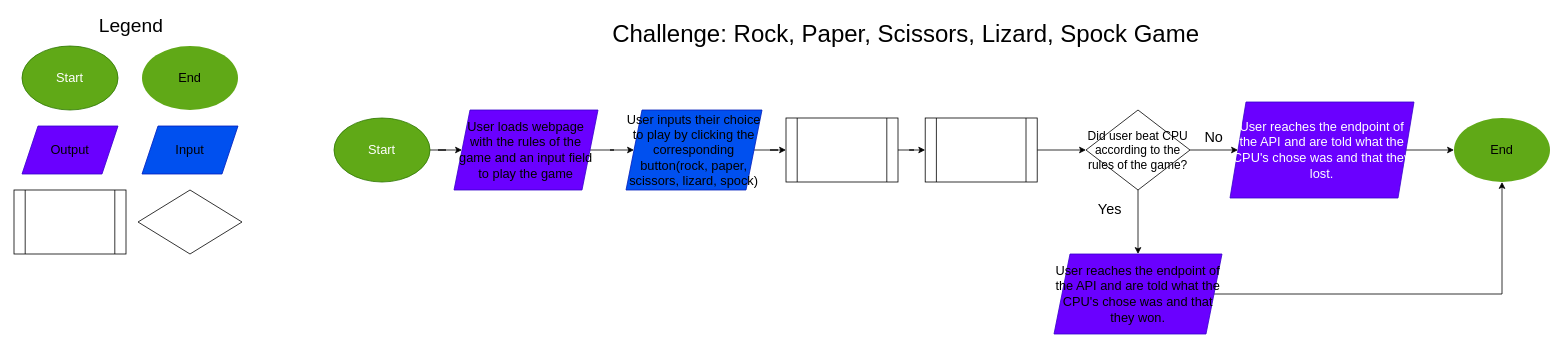
Some shapes in this 1564 by 348 pixel diagram are drawn without their labels. Each missing label, with the box of its shape:
Computer takes users' input and compares it to choice made by CPU: (924, 117, 1037, 182)
Cpu makes a random decision for the game: (785, 117, 898, 182)
Decision Block: (137, 189, 242, 254)
Process: (13, 189, 126, 254)
